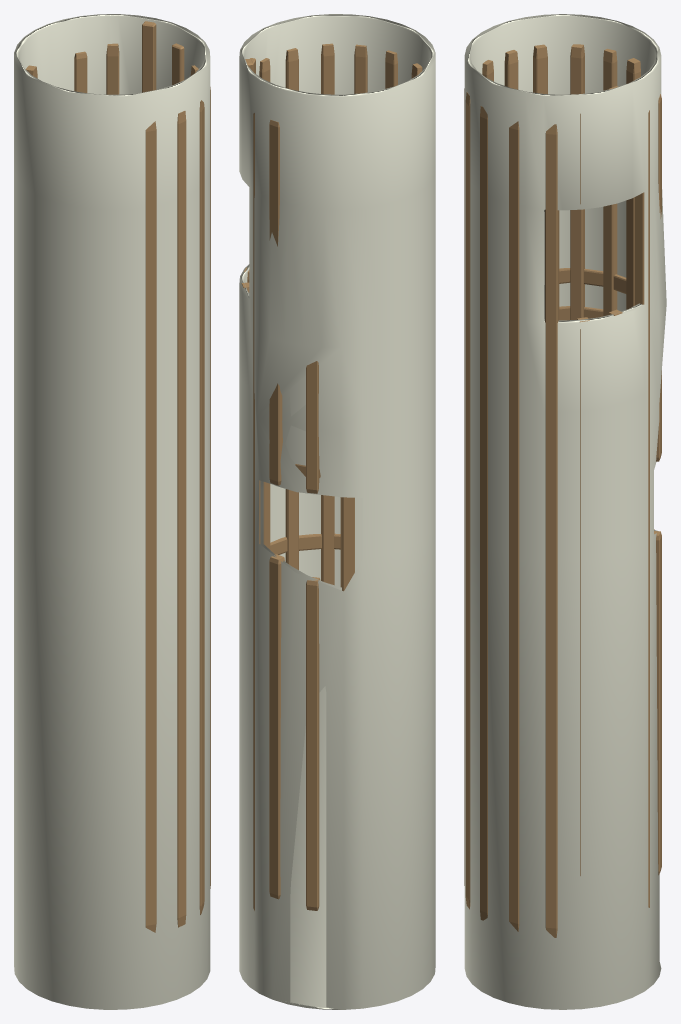
File: RoundWall_1.fbx
The picture shows the model from 3 angles, left to right: view 1: azimuth 30°, elevation 25°; view 2: azimuth 150°, elevation 25°; view 3: azimuth 270°, elevation 25°; orthographic projection.
Visible parts, largest first — view 1: Roundwall_1.001; view 2: Roundwall_1.001; view 3: Roundwall_1.001.
Part boxes in pixels (x1,y1,x2,y2): Roundwall_1.001: (14,14,210,1009); Roundwall_1.001: (239,14,435,1009); Roundwall_1.001: (464,14,666,1009).
Size of the model in its own units: 2.12 by 10.8 by 2.17.
